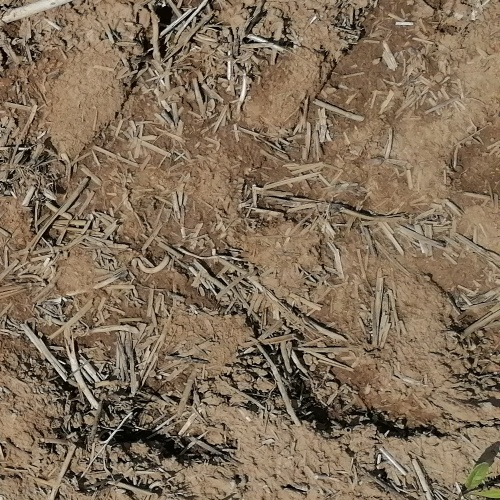beet: (464, 464, 500, 500)
